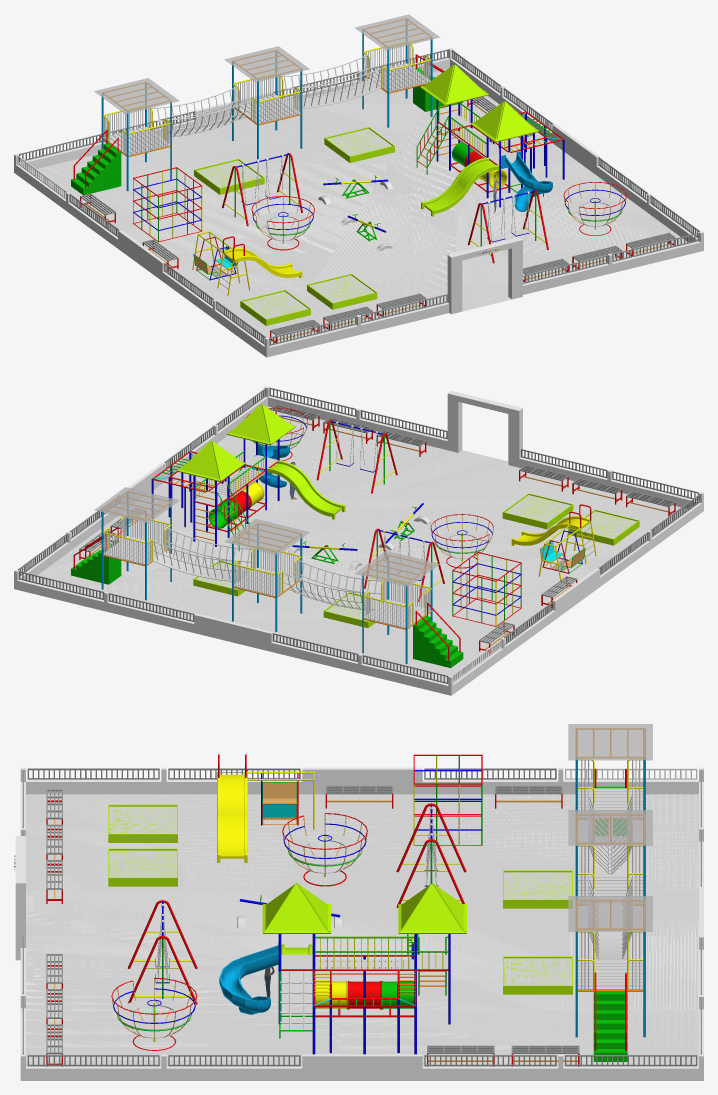
Rendered from playground.fbx.
3 views of the same model, one above another, from view 1: azimuth 30°, elevation 25°; view 2: azimuth 150°, elevation 25°; view 3: azimuth 270°, elevation 25° (orthographic). The views are drawn at different scales.
Visible parts, largest first — view 1: Mesh_1020, Mesh_149, Mesh_221, Mesh_147, Mesh_220, Mesh_406, Mesh_679, Mesh_798, Mesh_298, Mesh_608, Mesh_106, Mesh_636.001 (+11 smaller); view 2: Mesh_1020, Mesh_221, Mesh_149, Mesh_147, Mesh_220, Mesh_679, Mesh_608, Mesh_406, Mesh_222, Mesh_298, Mesh_106, Mesh_635.001 (+15 smaller); view 3: Mesh_1020, Mesh_221, Mesh_147, Mesh_149, Mesh_406, Mesh_679, Mesh_798, Mesh_298, Mesh_319, Mesh_222, Mesh_637.001, Mesh_637 (+25 smaller).
Boxes of the visible parts, x1,y1,x2,y2 form: Mesh_1020: (14,48,703,357); Mesh_149: (355,14,439,50); Mesh_221: (94,78,179,114); Mesh_147: (224,46,309,82); Mesh_220: (71,143,121,195); Mesh_406: (240,290,310,325); Mesh_679: (307,273,377,309); Mesh_798: (324,127,394,162); Mesh_298: (194,159,264,194); Mesh_608: (421,157,499,216); Mesh_106: (283,78,381,108); Mesh_636.001: (445,65,488,105); Mesh_1020: (14,386,703,695); Mesh_221: (354,550,439,586); Mesh_149: (94,487,179,523); Mesh_147: (224,519,309,555); Mesh_220: (413,616,463,667); Mesh_679: (502,493,573,529); Mesh_608: (267,460,345,519); Mesh_406: (569,509,639,545); Mesh_222: (71,540,121,584); Mesh_298: (323,592,383,627); Mesh_106: (153,551,250,581); Mesh_635.001: (177,441,220,481); Mesh_1020: (15,767,703,1080); Mesh_221: (568,724,652,760); Mesh_147: (568,810,652,845); Mesh_149: (568,896,652,931); Mesh_406: (108,804,177,842); Mesh_679: (108,848,177,886); Mesh_798: (503,956,572,994); Mesh_298: (503,870,572,908); Mesh_319: (217,771,247,862); Mesh_222: (593,991,627,1061); Mesh_637.001: (398,884,466,933); Mesh_637: (263,884,330,933).
Bounding box in the file's own units: 2015 × 435 × 2035.
